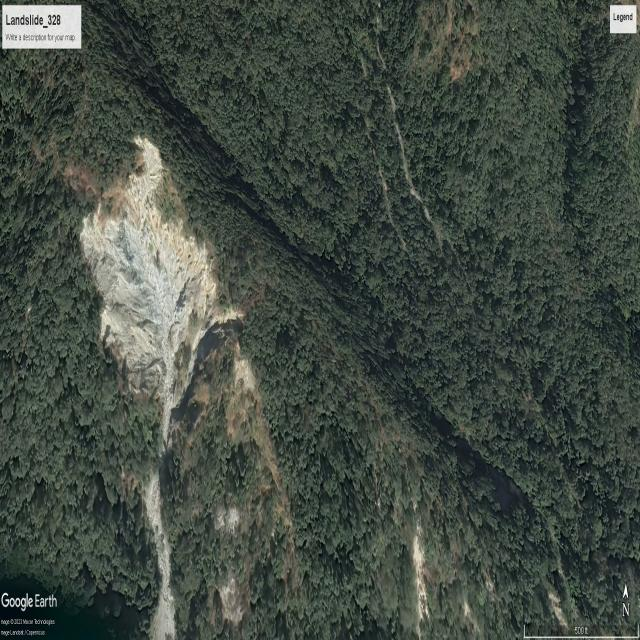Landslide: (80, 123, 240, 408), (125, 461, 186, 637)
